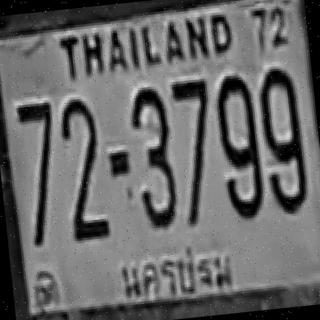N00: (212, 72, 258, 168), (255, 65, 301, 159)
N03: (126, 84, 178, 228)
N07: (170, 76, 214, 165), (16, 100, 57, 188)
N09: (216, 105, 264, 218)
P28: (110, 237, 246, 314)
